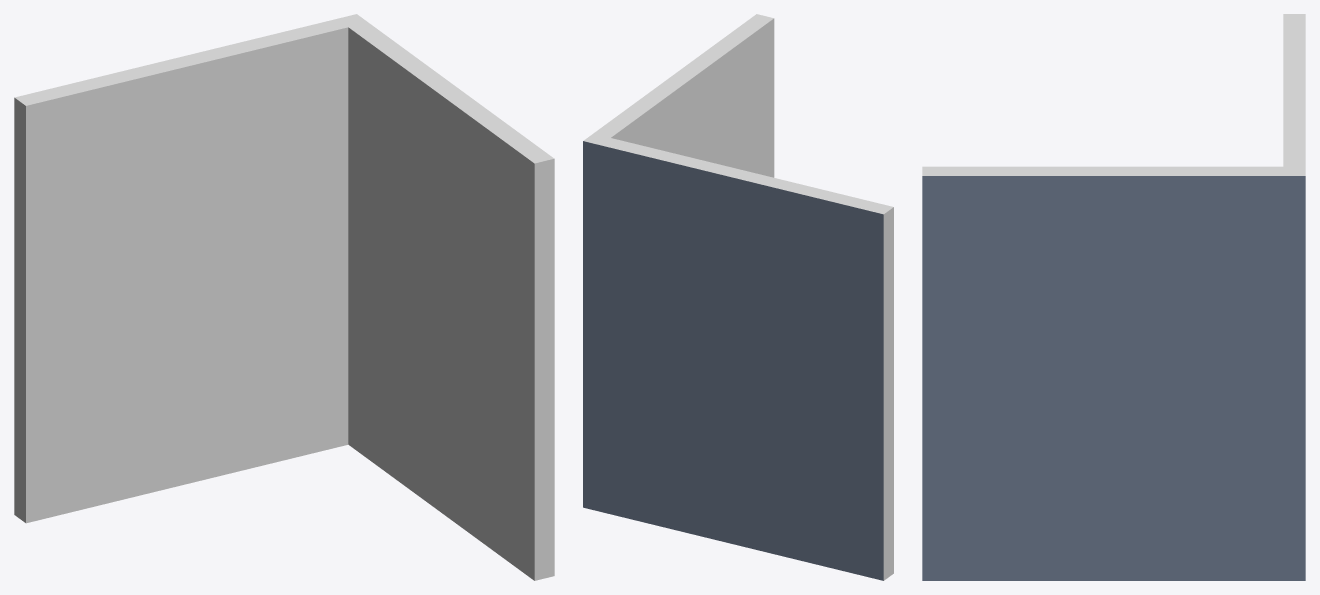
The model's file is Wall3_C2_06.fbx.
The picture shows the model from 3 angles, left to right: view 1: azimuth 30°, elevation 25°; view 2: azimuth 150°, elevation 25°; view 3: azimuth 270°, elevation 25°; orthographic projection. The views are drawn at different scales.
Parts seen in each view (by area): view 1: Wall3_C2_06; view 2: Wall3_C2_06; view 3: Wall3_C2_06.
Part boxes in pixels (<box>): Wall3_C2_06: <box>14,14,554,580</box>; Wall3_C2_06: <box>583,14,893,580</box>; Wall3_C2_06: <box>922,14,1305,580</box>.
Bounding box in the file's own units: 258 × 300 × 258.
